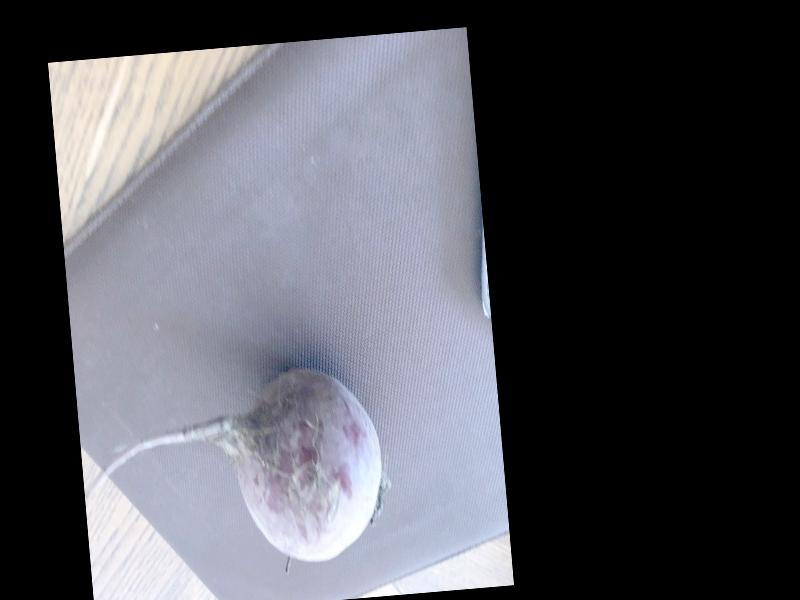Beet: (78, 364, 389, 579)
